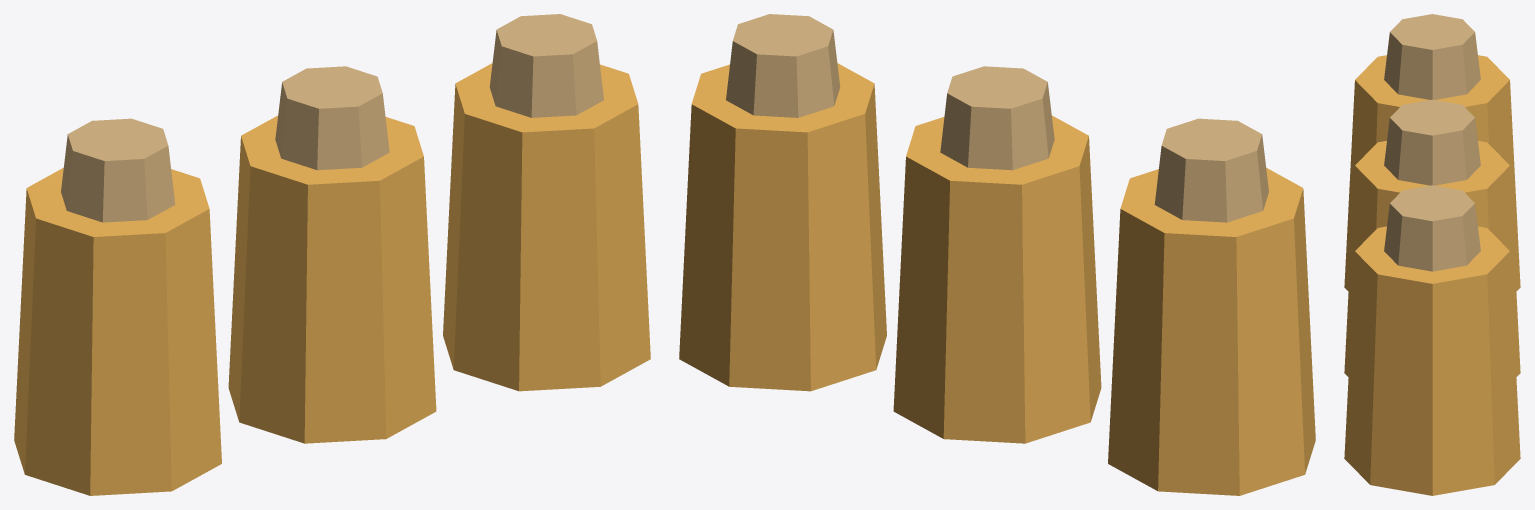
The model's file is CC_MedicineAdvanced.fbx.
3 renders of one model, left to right at view 1: azimuth 30°, elevation 25°; view 2: azimuth 150°, elevation 25°; view 3: azimuth 270°, elevation 25°, orthographic. The views are drawn at different scales.
Parts seen in each view (by area): view 1: Medicine jar.013, Medicine jar.012, Medicine jar.011, Cork.011, Cork.012, Cork.013; view 2: Medicine jar.013, Medicine jar.012, Medicine jar.011, Cork.011, Cork.012, Cork.013; view 3: Medicine jar.013, Medicine jar.012, Medicine jar.011, Cork.011, Cork.013, Cork.012.
Part boxes in pixels (x1,y1,x2,y2): Medicine jar.013: [443, 63, 650, 391]; Medicine jar.012: [228, 115, 436, 443]; Medicine jar.011: [14, 168, 221, 495]; Cork.011: [61, 118, 175, 222]; Cork.012: [275, 66, 389, 170]; Cork.013: [489, 14, 603, 117]; Medicine jar.013: [679, 63, 886, 391]; Medicine jar.012: [893, 115, 1101, 443]; Medicine jar.011: [1108, 168, 1315, 495]; Cork.011: [1154, 118, 1268, 222]; Cork.012: [940, 66, 1054, 170]; Cork.013: [726, 14, 840, 117]; Medicine jar.013: [1344, 226, 1520, 495]; Medicine jar.012: [1344, 141, 1520, 376]; Medicine jar.011: [1344, 55, 1520, 291]; Cork.011: [1384, 14, 1480, 99]; Cork.013: [1384, 185, 1480, 271]; Cork.012: [1384, 99, 1480, 185].
Bounding box in the file's own units: 0.66 × 0.32 × 0.2.
